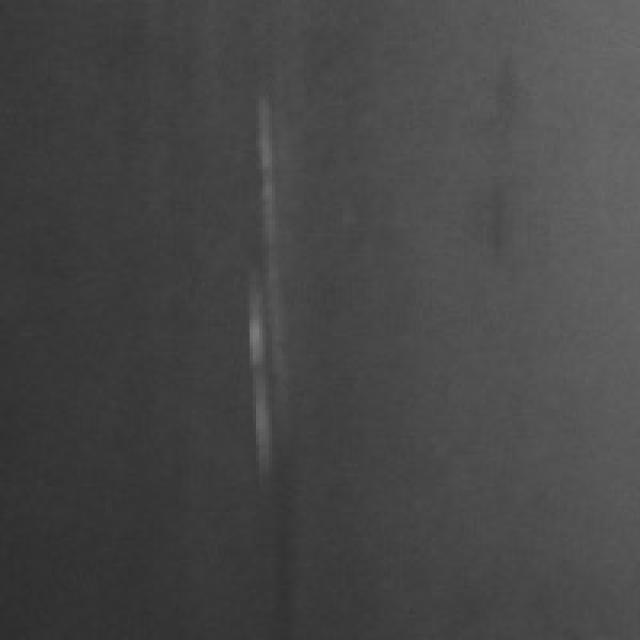inclusion: (476, 147, 522, 253)
scratches: (246, 93, 301, 477)
